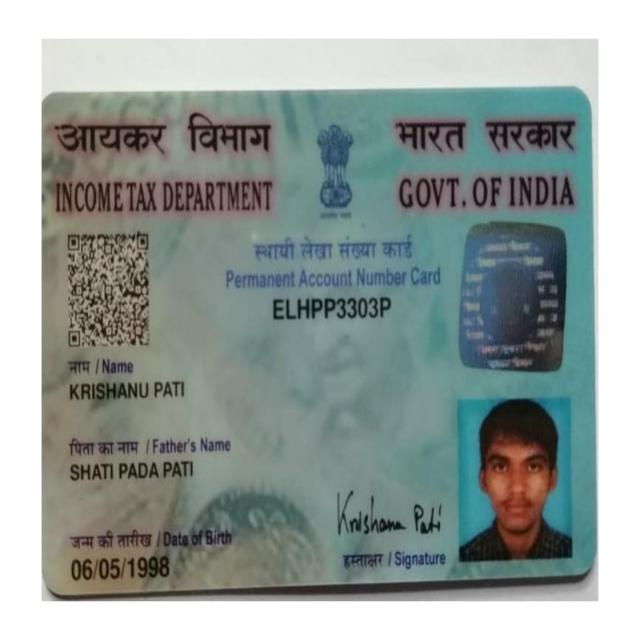pan_card: (41, 93, 592, 588)
